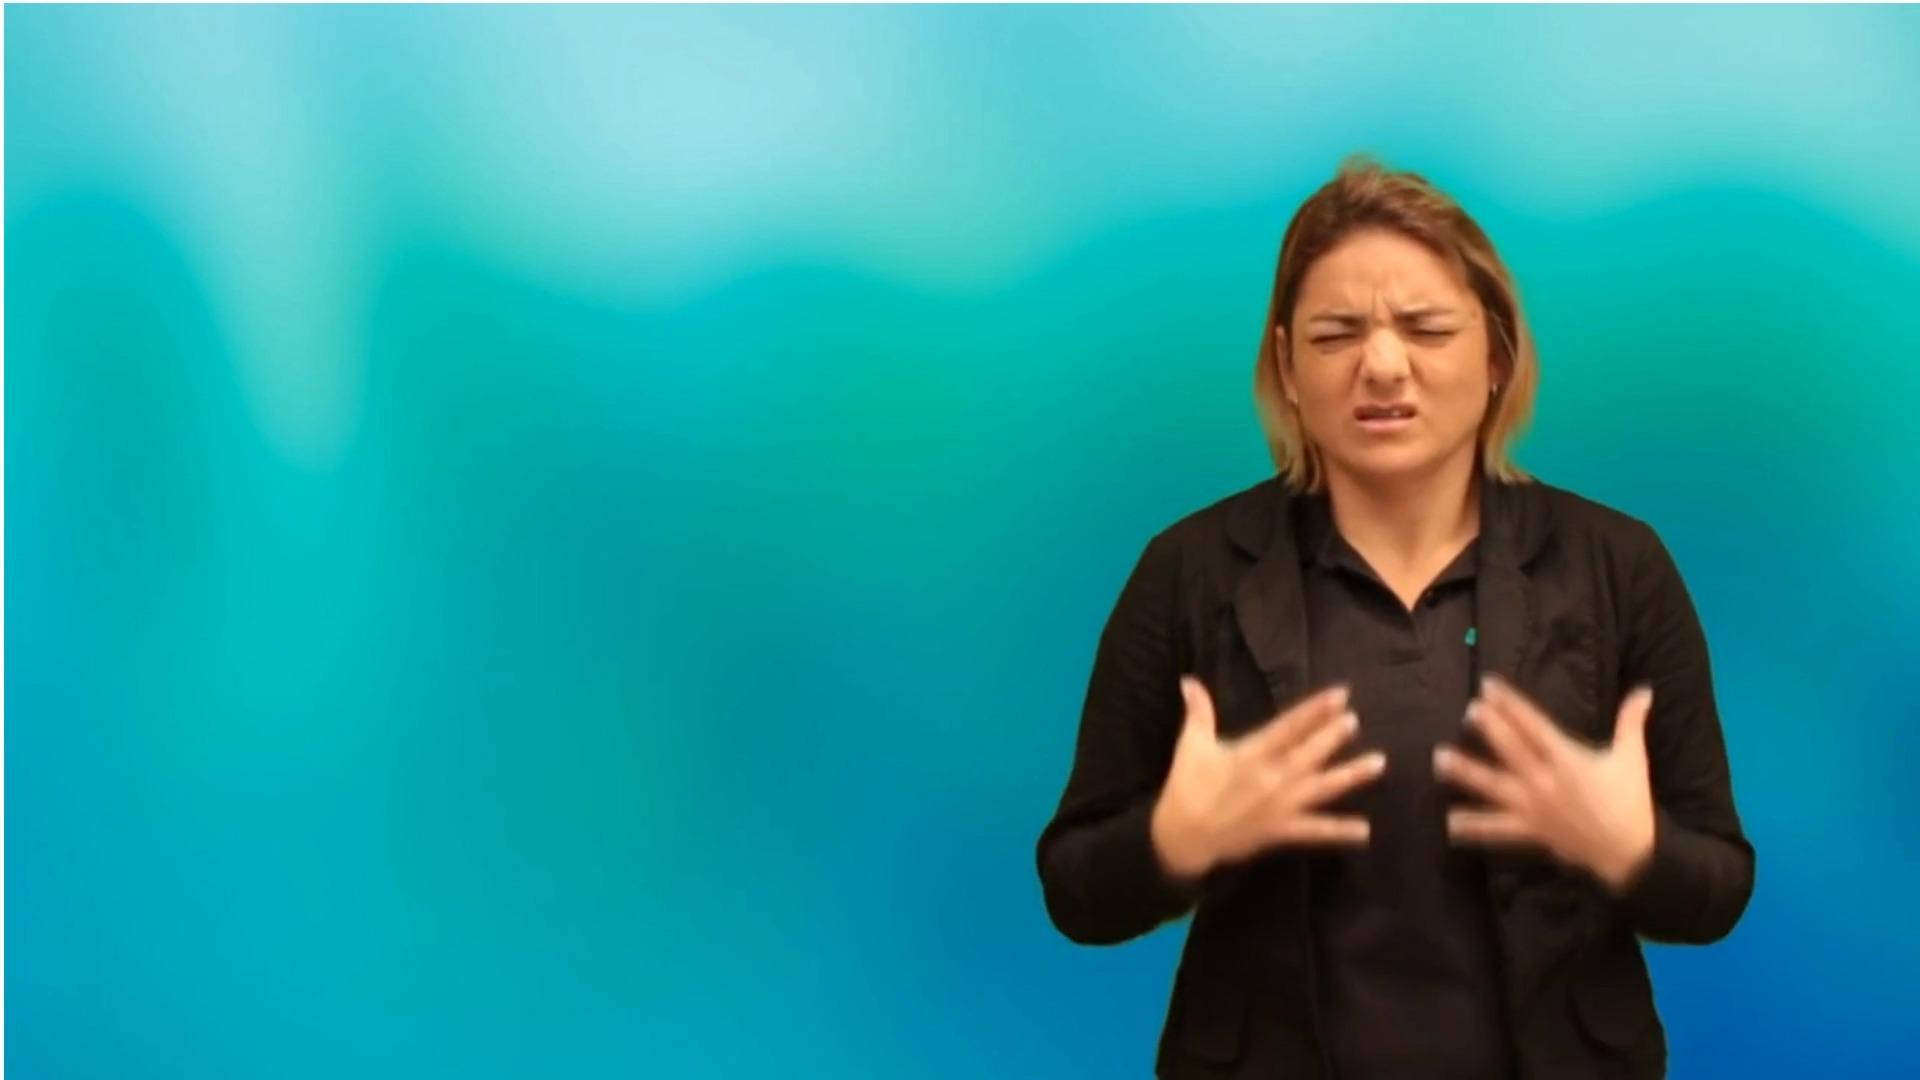Dolor: (1027, 144, 1781, 1024)
